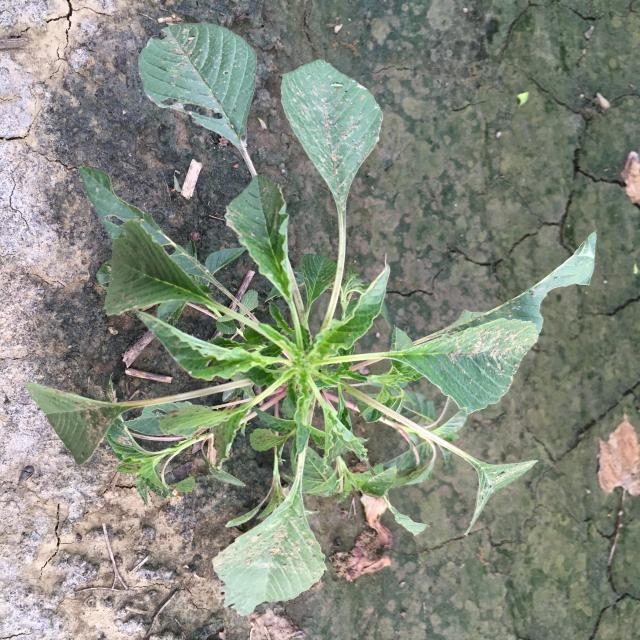PalmerAmaranth: (23, 23, 597, 616)
